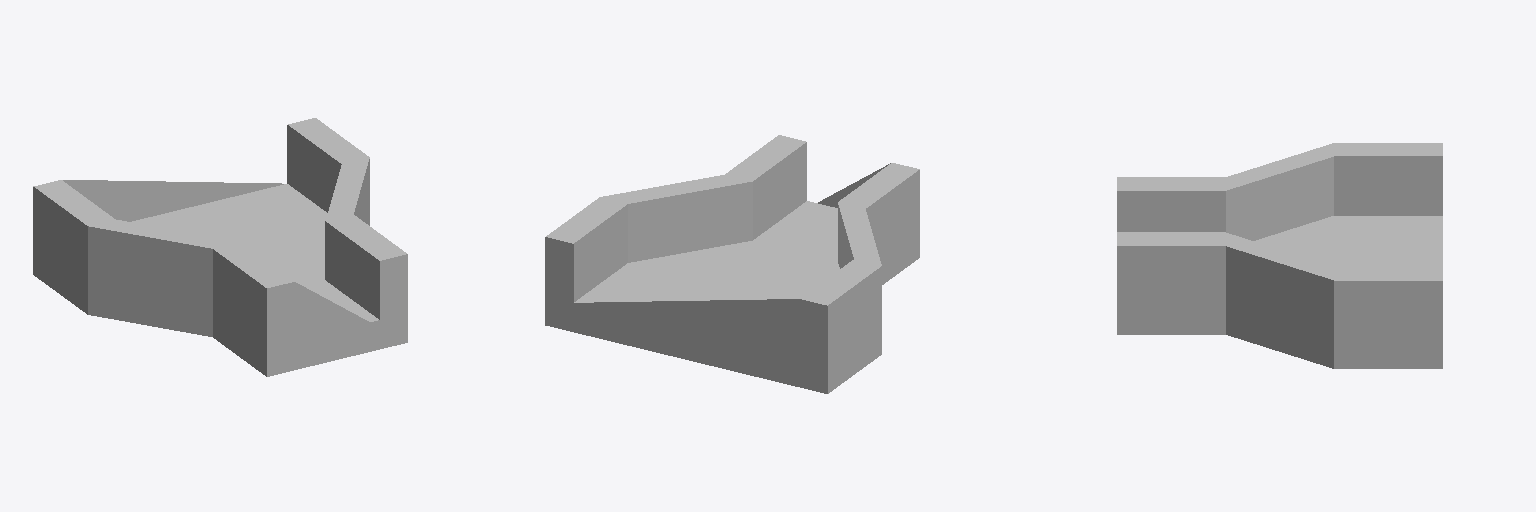
The model's file is ThickThinThin_.obj.
The picture shows the model from 3 angles: view 1: azimuth 30°, elevation 25°; view 2: azimuth 150°, elevation 25°; view 3: azimuth 270°, elevation 25°; orthographic projection.
Visible parts, largest first — view 1: ThickThinThin_; view 2: ThickThinThin_; view 3: ThickThinThin_.
Boxes of the visible parts, box(x1,y1,x2,y2) form: ThickThinThin_: box(33, 118, 407, 376); ThickThinThin_: box(545, 135, 919, 393); ThickThinThin_: box(1117, 143, 1442, 368).
Size of the model in its own units: 2 by 0.6 by 2.